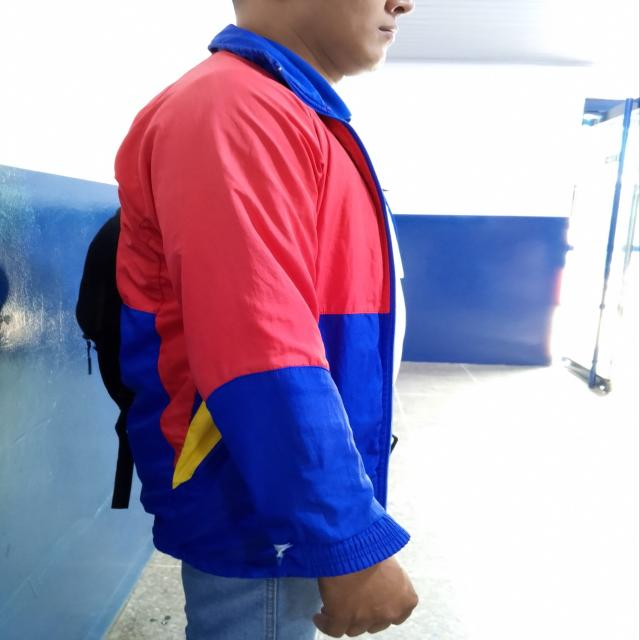chaqueta_unefa: (111, 21, 413, 582)
